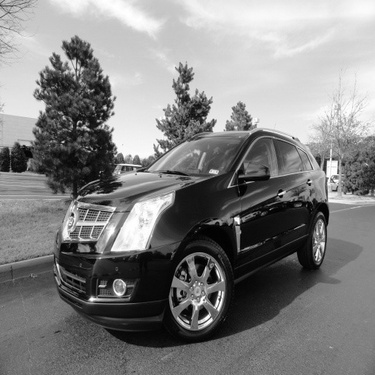car: (34, 113, 353, 329)
